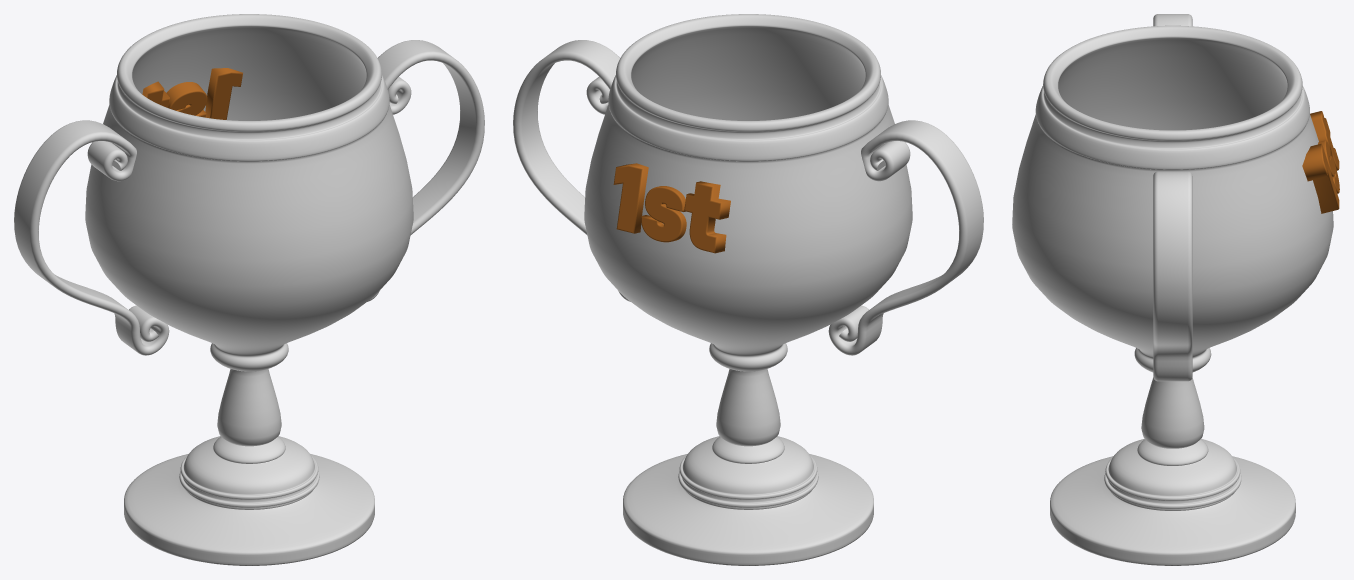
Rendered from cup.glb.
The picture shows the model from 3 angles, left to right: view 1: azimuth 30°, elevation 25°; view 2: azimuth 150°, elevation 25°; view 3: azimuth 270°, elevation 25°; orthographic projection. The views are drawn at different scales.
Parts seen in each view (by area): view 1: Cup_body, hands, Text; view 2: Cup_body, hands, Text; view 3: Cup_body, hands, Text.
Boxes of the visible parts, <box> form: Cup_body: <box>85,14,413,565</box>; hands: <box>14,40,484,355</box>; Text: <box>142,68,242,119</box>; Cup_body: <box>584,14,912,565</box>; hands: <box>513,40,983,355</box>; Text: <box>613,163,730,253</box>; Cup_body: <box>1012,25,1333,565</box>; hands: <box>1153,14,1192,381</box>; Text: <box>1302,111,1339,213</box>.
Size of the model in its own units: 2.94 by 2.76 by 1.87.
